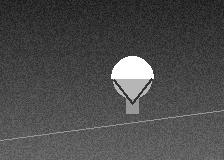helmet: (111, 56, 153, 103)
